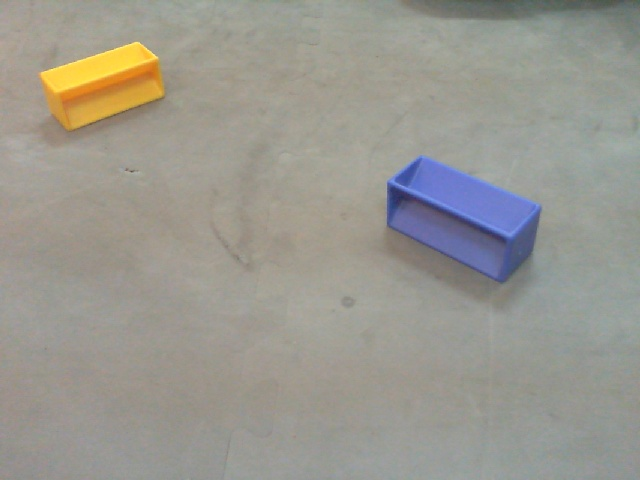BlueSample: (382, 149, 547, 293)
YellowSample: (37, 38, 171, 140)
